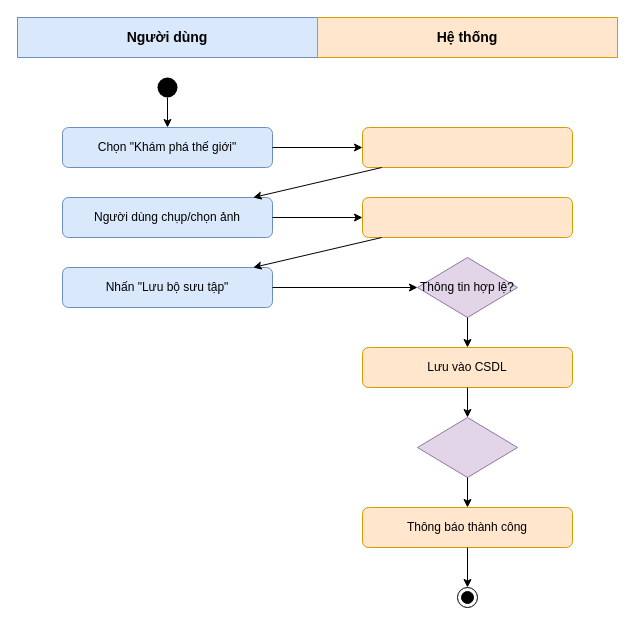
Image size: 635x625. Some labels were removed from this diagram. The shapes that lost their labels are listed below. From the top down, each one's centre as x and y in pixels, then its label:
[467,147]: Hiển thị hộp thoại nạp ảnh
[467,217]: Nhận diện bằng AI & Trả kết quả
[467,447]: Lưu thành công?
